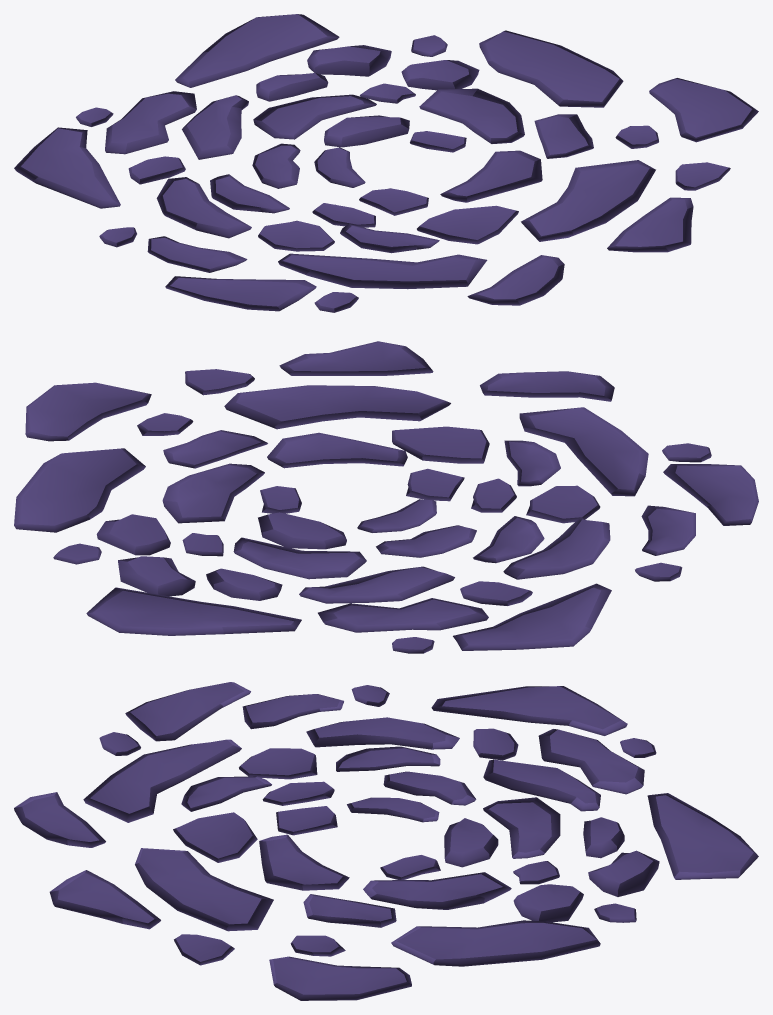
File: M_Stage_Rose.fbx
3 views of the same model, one above another, from view 1: azimuth 30°, elevation 25°; view 2: azimuth 150°, elevation 25°; view 3: azimuth 270°, elevation 25° (orthographic). The views are drawn at different scales.
Visible parts, largest first — view 1: stone006; view 2: stone006; view 3: stone006.
Part boxes in pixels (left/top/right/bottom): stone006: left=14, top=14, right=758, bottom=312; stone006: left=14, top=341, right=758, bottom=653; stone006: left=14, top=682, right=758, bottom=1000.
Bounding box in the file's own units: 3296 × 87.12 × 3279.
